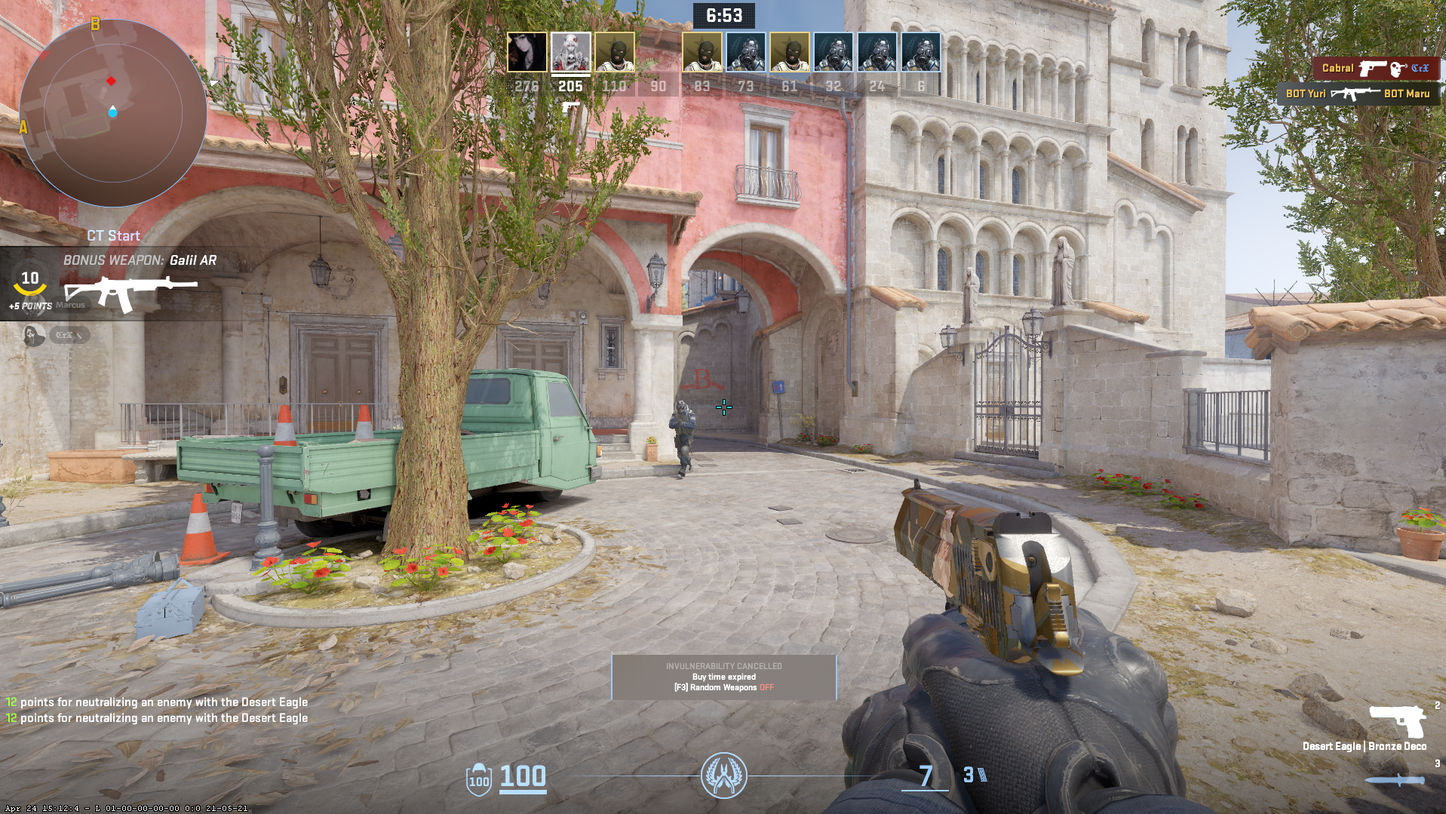CT: (669, 400, 696, 477)
